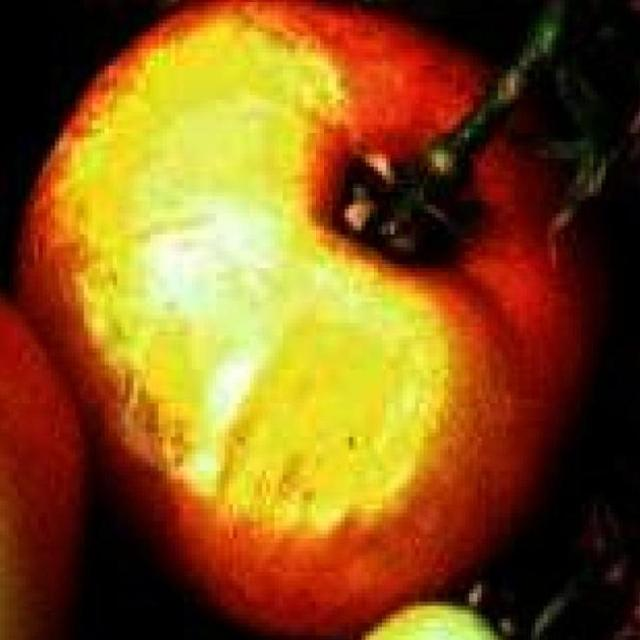Sunscald Fruit: (43, 9, 325, 378)
